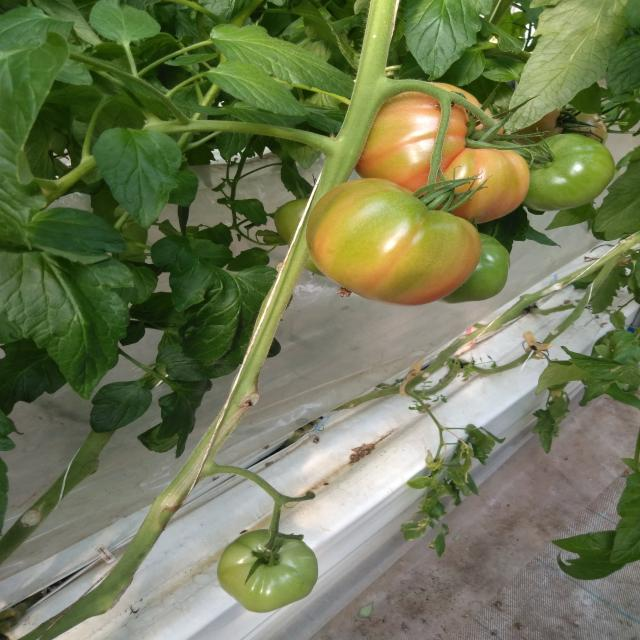yesil: (291, 80, 585, 352)
